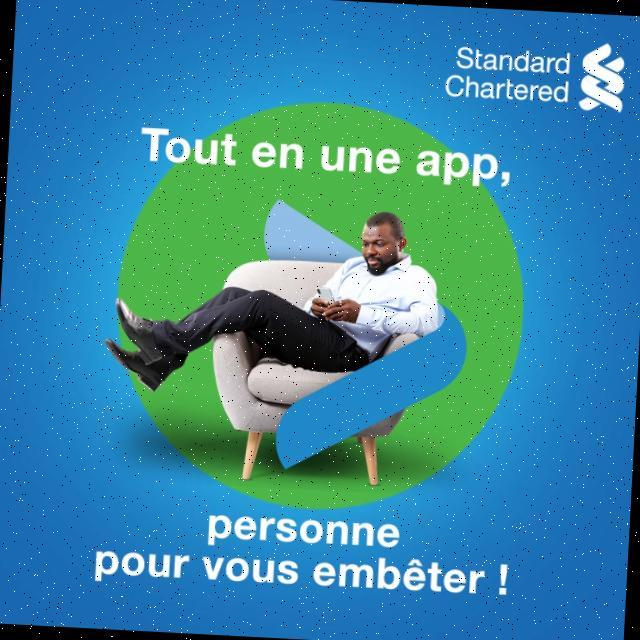Standard Chartered: (443, 34, 627, 114)
